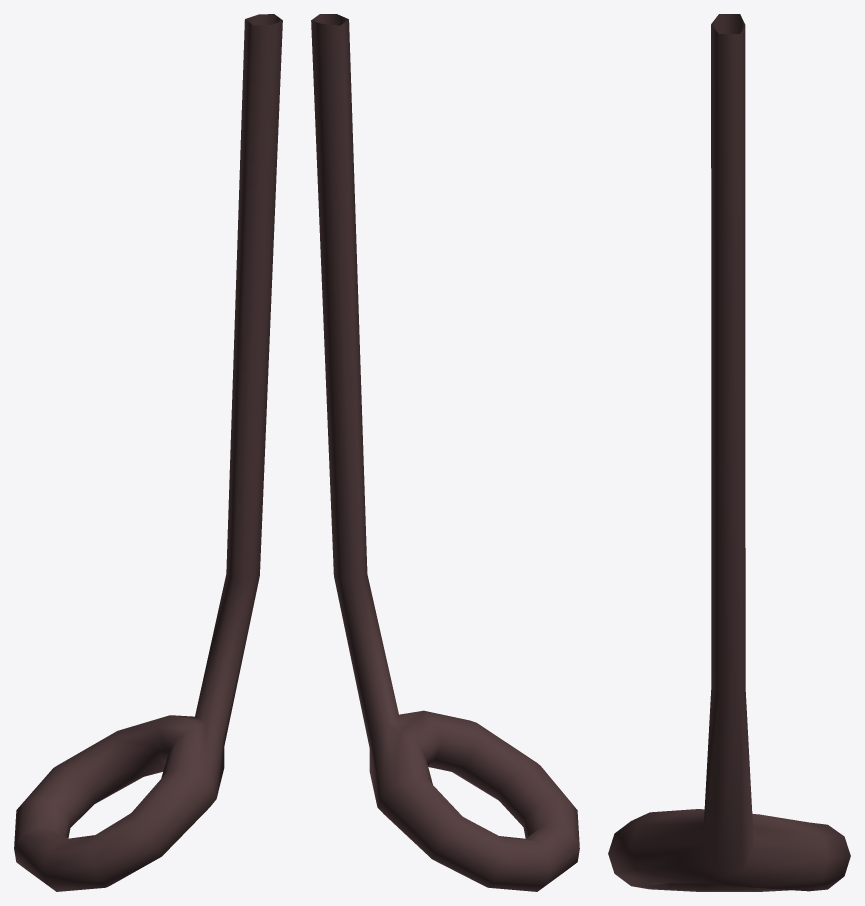
Rendered from SM_BabyDoll_4_rope.fbx.
The picture shows the model from 3 angles, left to right: view 1: azimuth 30°, elevation 25°; view 2: azimuth 150°, elevation 25°; view 3: azimuth 270°, elevation 25°; orthographic projection. The views are drawn at different scales.
Visible parts, largest first — view 1: SM_BabyDoll_4_rope; view 2: SM_BabyDoll_4_rope; view 3: SM_BabyDoll_4_rope.
Part boxes in pixels (x1,y1,x2,y2): SM_BabyDoll_4_rope: [14, 14, 282, 891]; SM_BabyDoll_4_rope: [311, 14, 579, 891]; SM_BabyDoll_4_rope: [608, 14, 850, 891].
Bounding box in the file's own units: 4.57 × 3.14 × 14.15.
Materials: 1 (1 with a texture image).
